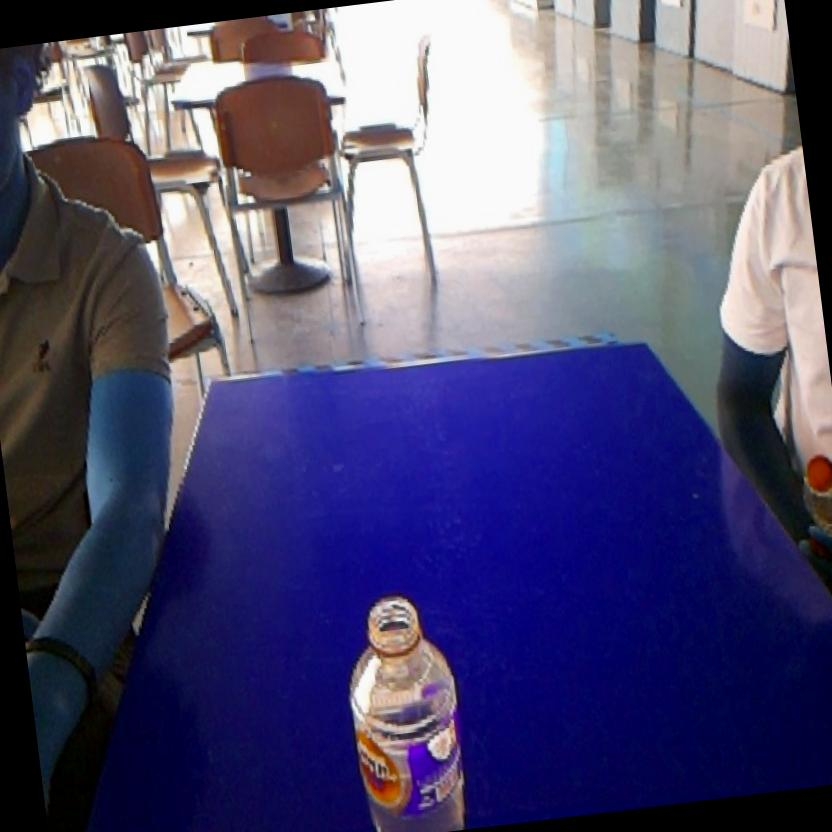no_cap: (321, 574, 481, 832)
